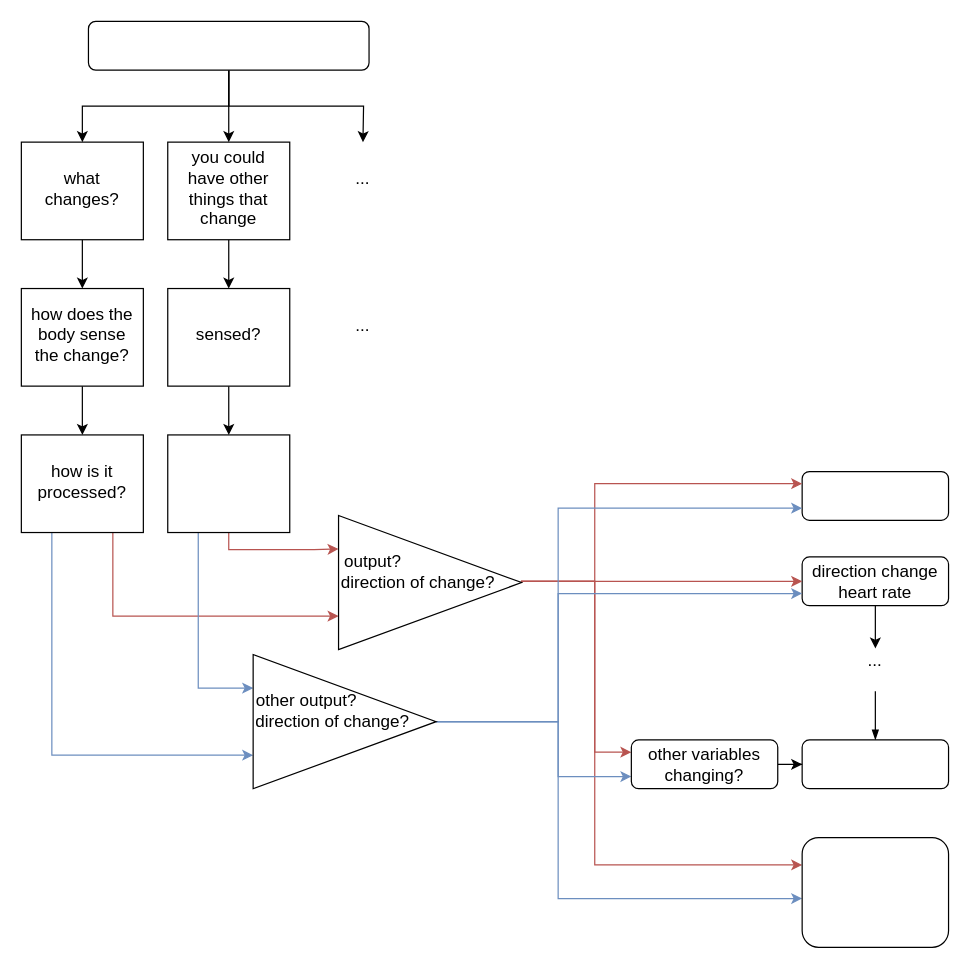
Image size: 970x969. Some labels were removed from this diagram. Here are the shapes that lost their labels. From the top down, the centre of each, then its label:
[228,45]: Isometric hand-grip exercise
[228,483]: processed?
[875,495]: directional change respiratory rate
[875,764]: directional change blood pressure
[875,891]: you can add other non-measured variables if you think they are instructive
